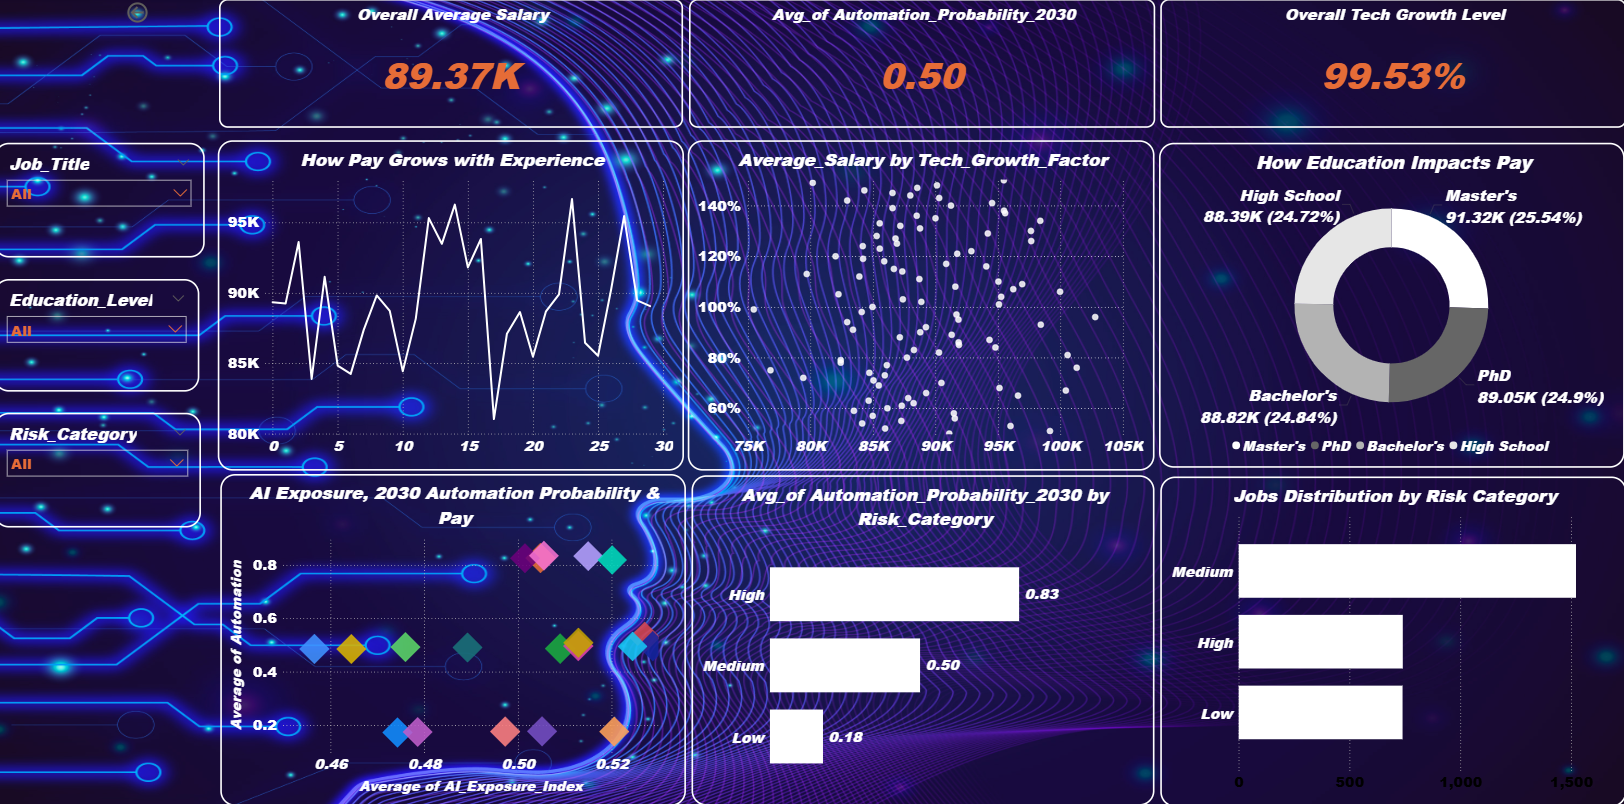

The dashboard page shown, as its layout file describes it:
{"tool":"powerbi","page":{"name":" overview","canvas":[2422,1200],"ordinal":0},"visuals":[{"type":"lineChart","title":"How Pay Grows with Experience","fields":{"Category":["Dim_Years_Experience.Years_Experience"],"Y":["Avg(Fact_Table.Average_Salary)"]},"box":[332.3,208.9,691.7,490.1],"z":0},{"type":"donutChart","title":"How Education Impacts Pay","fields":{"Category":["Dim_Education_Level.Education_Level"],"Y":["Avg(Fact_Table.Average_Salary)"]},"box":[1730,213.6,691,482.3],"z":1000},{"type":"scatterChart","title":"AI Exposure, 2030 Automation Probability & Pay","fields":{"X":["Avg(Fact_Table.AI_Exposure_Index)"],"Y":["Avg(Fact_Table.Automation_Probability_2030)"],"Series":["Fact_Table.Job_Title"],"Size":["Avg(Fact_Table.Average_Salary)"]},"box":[335.4,705.9,691,492.7],"z":2000},{"type":"slicer","fields":{"Values":["Fact_Table.Job_Title"]},"box":[0,212.5,312.5,170],"z":3000},{"type":"card","title":"Overall Average Salary","fields":{"Values":["Avg(Fact_Table.Average_Salary)"]},"box":[334.8,-0.1,689.2,191.6],"z":4000},{"type":"card","title":"Overall Tech Growth Level","fields":{"Values":["Avg(Fact_Table.Tech_Growth_Factor)"]},"box":[1730.6,-0.1,691.7,191.6],"z":5000},{"type":"card","title":"Avg_of Automation_Probability_2030","fields":{"Values":["Avg(Fact_Table.Automation_Probability_2030)"]},"box":[1031.4,-0.1,691.7,191.6],"z":6000},{"type":"barChart","title":"Jobs Distribution by Risk Category","fields":{"Category":["Dim_Risk_Category.Risk_Category"],"Y":["CountNonNull(Fact_Table.Job_Title)"]},"box":[1731,708.6,691.7,490],"z":7000},{"type":"slicer","fields":{"Values":["Fact_Table.Education_Level"]},"box":[0,415,305,167.5],"z":8000},{"type":"slicer","fields":{"Values":["Fact_Table.Risk_Category"]},"box":[0,615,307.5,170],"z":9000},{"type":"scatterChart","title":" Average_Salary by Tech_Growth_Factor","fields":{"X":["Avg(Fact_Table.Average_Salary)"],"Y":["Fact_Table.Tech_Growth_Factor"]},"box":[1030,210,692.5,490],"z":10000},{"type":"actionButton","box":[192.9,-0.6,100,40],"z":11000},{"type":"clusteredBarChart","title":"Avg_of Automation_Probability_2030 by Risk_Category","fields":{"Category":["Dim_Risk_Category.Risk_Category"],"Y":["Avg(Fact_Table.Automation_Probability_2030)"]},"box":[1035,707.5,687.5,490],"z":12000}]}

Visuals, with their boxes in screenshot pixels (x1, y1, x2, y2), scaled from the page's 2422x1200 canvas onto the 1624x804 screenshot:
"How Pay Grows with Experience" lineChart: 223,140,687,468
"How Education Impacts Pay" donutChart: 1160,143,1623,466
"AI Exposure, 2030 Automation Probability & Pay" scatterChart: 225,473,688,803
slicer - Fact_Table.Job_Title: 0,142,210,256
"Overall Average Salary" card: 224,0,687,128
"Overall Tech Growth Level" card: 1160,0,1623,128
"Avg_of Automation_Probability_2030" card: 692,0,1155,128
"Jobs Distribution by Risk Category" barChart: 1161,475,1623,803
slicer - Fact_Table.Education_Level: 0,278,205,390
slicer - Fact_Table.Risk_Category: 0,412,206,526
" Average_Salary by Tech_Growth_Factor" scatterChart: 691,141,1155,469
actionButton: 129,0,196,26
"Avg_of Automation_Probability_2030 by Risk_Category" clusteredBarChart: 694,474,1155,802
